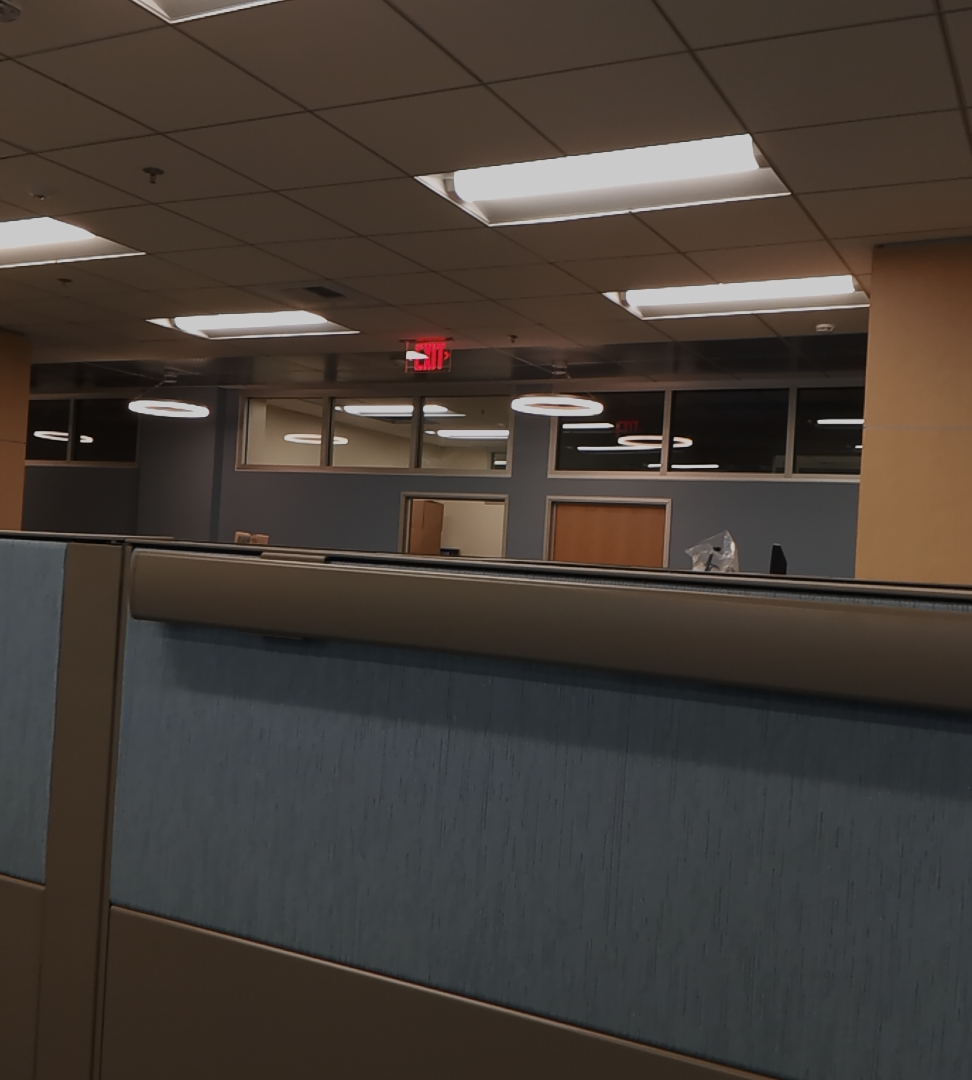emergency_exit: (399, 334, 454, 375)
